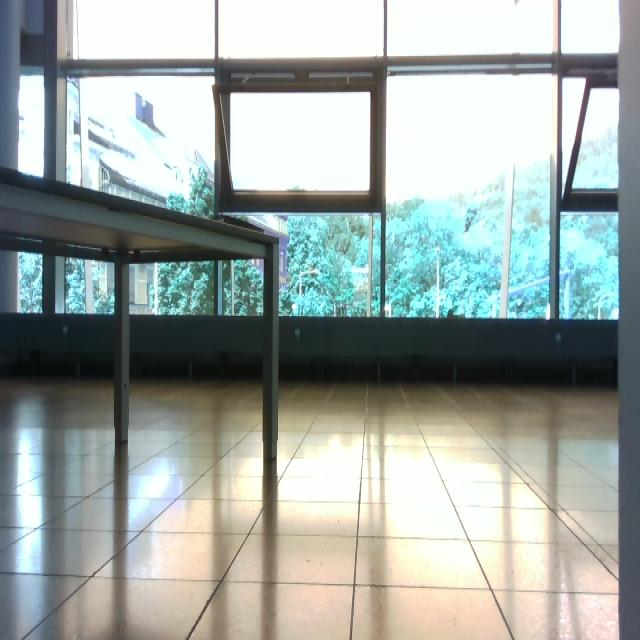door: (2, 1, 638, 638), (117, 253, 277, 460)
light bulb: (299, 266, 320, 316)
pillar: (114, 258, 131, 444)
tiled floor: (2, 376, 620, 638)
window: (2, 1, 621, 324)
